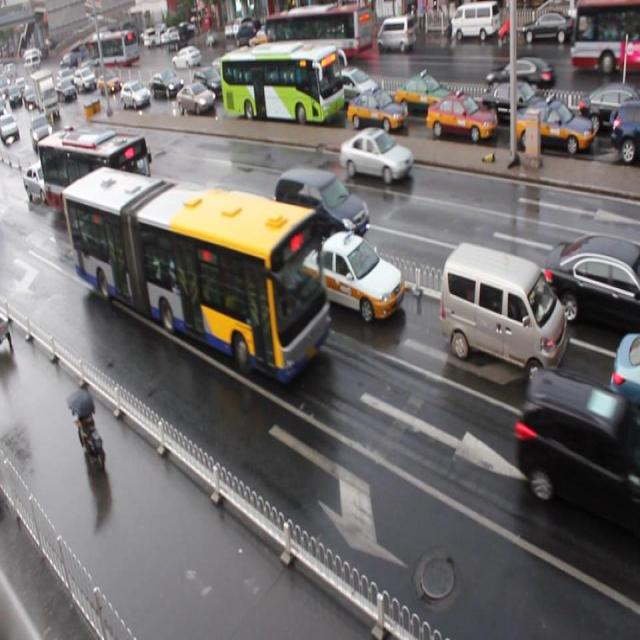car: (514, 367, 640, 540), (542, 235, 640, 337), (299, 229, 403, 321), (514, 100, 594, 160), (139, 188, 207, 252), (340, 129, 413, 184), (477, 78, 555, 128), (426, 91, 497, 145), (608, 330, 640, 433), (394, 71, 458, 117), (577, 88, 640, 134), (346, 88, 406, 134), (330, 63, 381, 103), (100, 134, 143, 180), (610, 100, 640, 161), (22, 159, 61, 204), (193, 64, 226, 101), (169, 82, 207, 114), (145, 69, 180, 97), (120, 80, 150, 108)
truck: (438, 240, 568, 389), (274, 165, 368, 250), (214, 187, 289, 282)
van: (61, 161, 332, 389), (38, 127, 154, 235), (216, 41, 339, 125)
